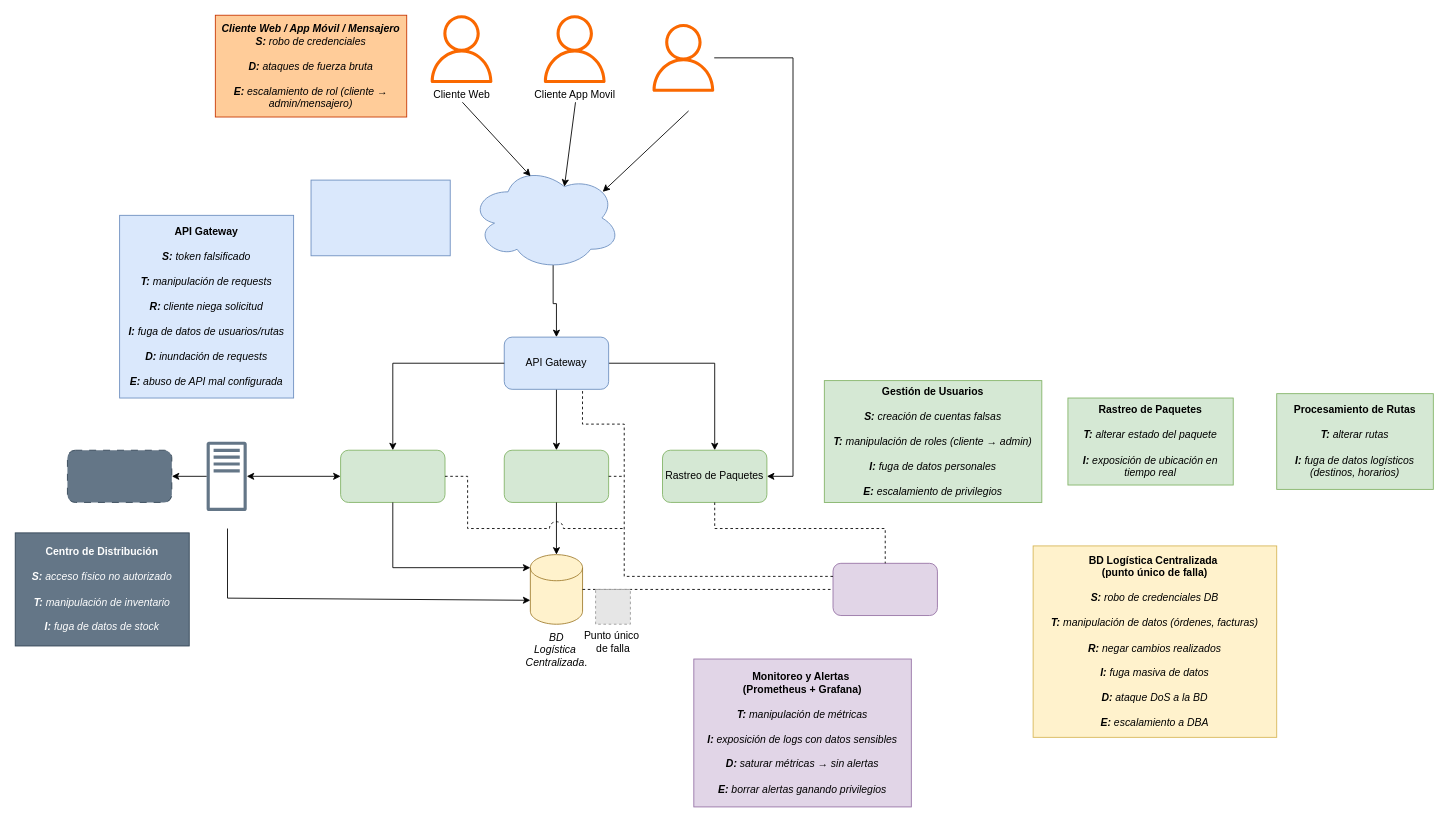
This 1449x822 diagram has some shape labels left out. Grey dashed boxes stand in for pictures. The centre of each missing label's shape, as x and y in pixels:
"Balanceador de Carga (Nube)" goes at (x=545, y=217).
"Balanceador de Carga (Nube) S: IP spoofing D: DDoS / saturación" goes at (x=380, y=217).
"Centro de Distribución" goes at (x=119, y=475).
"Gestión de Usuarios" goes at (x=556, y=475).
"Mensajero" goes at (x=683, y=57).
"Monitoreo y Alertas (Prometheus + Grafana)" goes at (x=884, y=589).
"Procesamiento de Rutas" goes at (x=392, y=475).
